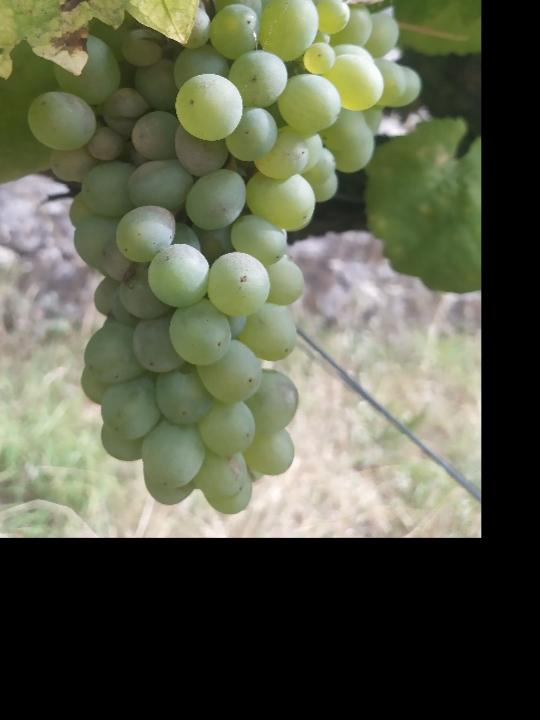grape: (26, 0, 425, 519)
